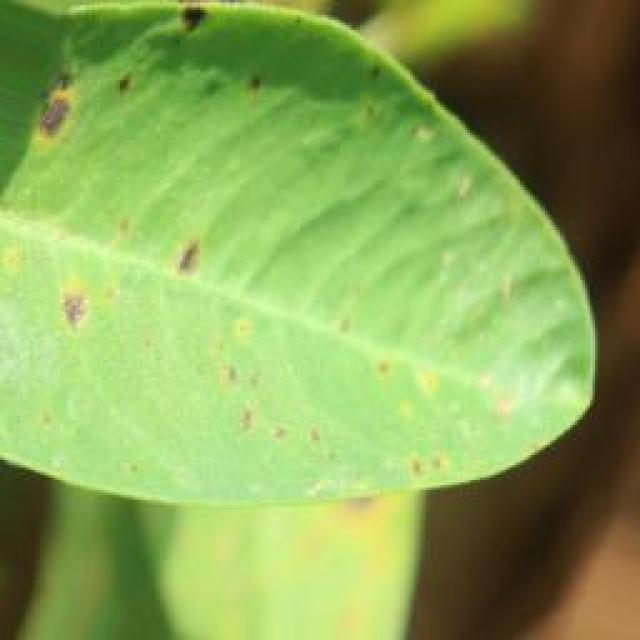Sigatoka: (466, 260, 634, 401), (200, 323, 326, 476), (160, 0, 278, 109), (302, 28, 400, 148), (373, 349, 466, 474), (20, 54, 94, 168), (40, 270, 126, 350), (99, 38, 170, 119), (153, 224, 214, 318)
